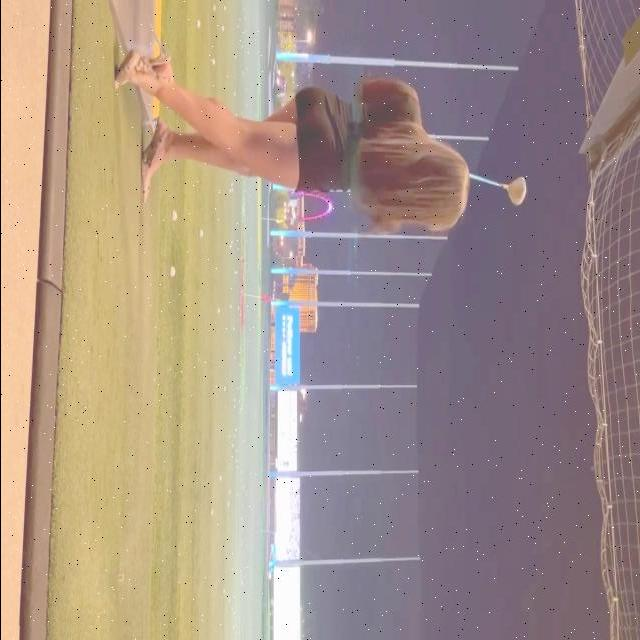golf club-handle: (469, 173, 525, 205)
golf club-head: (507, 177, 525, 204)
